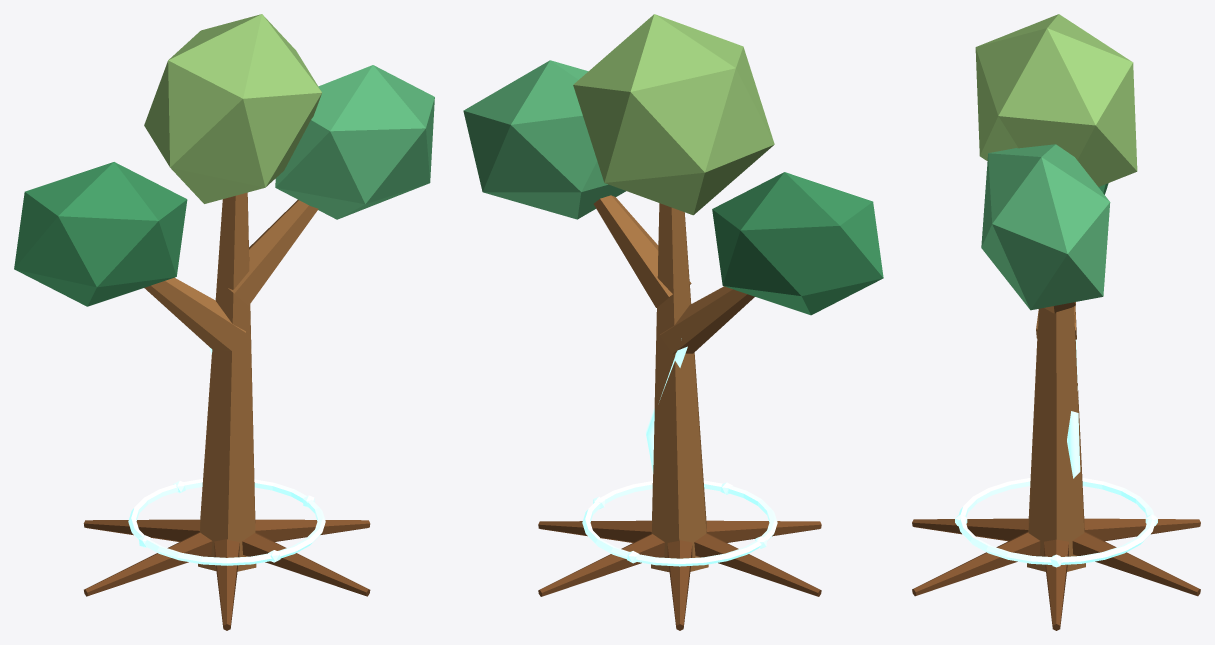
Rendered from seedling.glb.
3 views of the same model, side by side, from view 1: azimuth 30°, elevation 25°; view 2: azimuth 150°, elevation 25°; view 3: azimuth 270°, elevation 25° (orthographic).
Visible parts, largest first — view 1: Oak_Canopy_03, Oak_Canopy_01, Oak_Canopy_02, Young_Trunk, Branch_01, Branch_02, Chrono_Energy_Ring, Root_04, Root_06, Root_03, Root_01, Root_05; view 2: Oak_Canopy_03, Oak_Canopy_01, Oak_Canopy_02, Young_Trunk, Branch_02, Chrono_Energy_Ring, Branch_01, Root_04, Root_02, Root_05, Root_01, Root_03; view 3: Oak_Canopy_03, Oak_Canopy_02, Young_Trunk, Chrono_Energy_Ring, Root_02, Root_06, Root_03, Root_05, Root_01, Root_Energy.
Part boxes in pixels (x1,y1,x2,y2): Oak_Canopy_03: [144, 14, 321, 203]; Oak_Canopy_01: [14, 162, 187, 306]; Oak_Canopy_02: [275, 65, 434, 219]; Young_Trunk: [198, 192, 256, 571]; Branch_01: [144, 277, 245, 351]; Branch_02: [228, 200, 318, 305]; Chrono_Energy_Ring: [128, 479, 325, 565]; Root_04: [84, 532, 212, 596]; Root_06: [242, 532, 370, 596]; Root_03: [83, 519, 200, 541]; Root_01: [255, 519, 370, 541]; Root_05: [214, 539, 239, 630]; Oak_Canopy_03: [573, 14, 774, 215]; Oak_Canopy_01: [712, 172, 883, 315]; Oak_Canopy_02: [463, 60, 625, 219]; Young_Trunk: [651, 203, 708, 572]; Branch_02: [593, 195, 691, 307]; Chrono_Energy_Ring: [582, 480, 777, 566]; Branch_01: [659, 286, 754, 354]; Root_04: [694, 533, 821, 596]; Root_02: [538, 533, 664, 596]; Root_05: [706, 520, 821, 542]; Root_01: [538, 520, 651, 542]; Root_03: [667, 540, 692, 630]; Oak_Canopy_03: [975, 14, 1137, 186]; Oak_Canopy_02: [981, 144, 1110, 310]; Young_Trunk: [1027, 306, 1085, 571]; Chrono_Energy_Ring: [957, 478, 1155, 564]; Root_02: [1072, 531, 1200, 596]; Root_06: [912, 531, 1040, 596]; Root_03: [1084, 518, 1200, 541]; Root_05: [912, 518, 1028, 541]; Root_01: [1044, 539, 1068, 630]; Root_Energy: [1067, 339, 1080, 478].
Size of the model in its own units: 1.38 by 1.7 by 0.8088.
